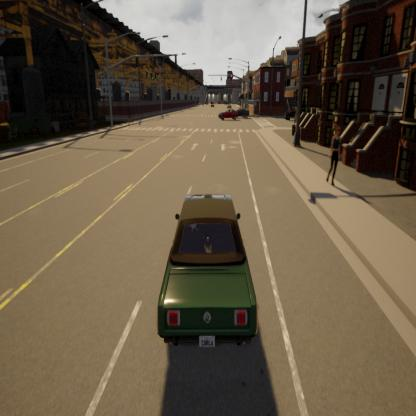Cars: (145, 166, 281, 376), (233, 103, 256, 133), (210, 104, 241, 125)
Pedestrian: (325, 118, 344, 196)
